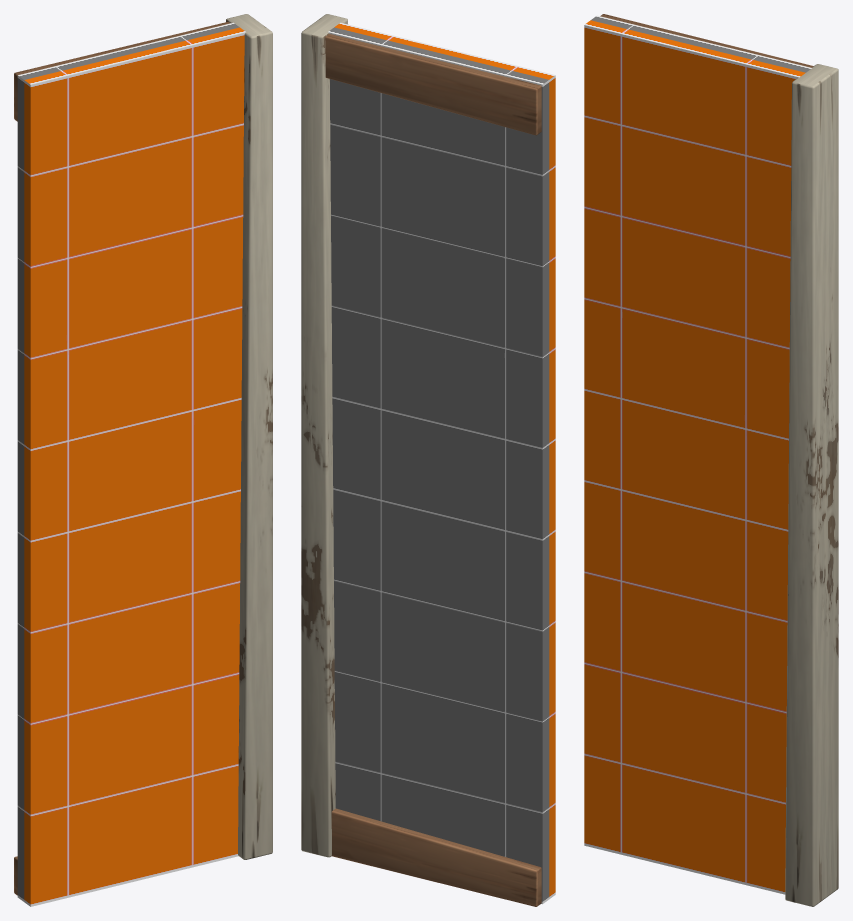
The model's file is Hangar01WD_4.FBX.
The picture shows the model from 3 angles, left to right: view 1: azimuth 30°, elevation 25°; view 2: azimuth 150°, elevation 25°; view 3: azimuth 330°, elevation 25°; orthographic projection.
Visible parts, largest first — view 1: Hangar01WD_4; view 2: Hangar01WD_4; view 3: Hangar01WD_4.
Boxes of the visible parts, bbox=[...] form: Hangar01WD_4: bbox=[14, 14, 272, 906]; Hangar01WD_4: bbox=[301, 14, 555, 906]; Hangar01WD_4: bbox=[584, 14, 838, 906].
Size of what is drawn, in the model's own units: 1.05 by 3.5 by 0.2.
